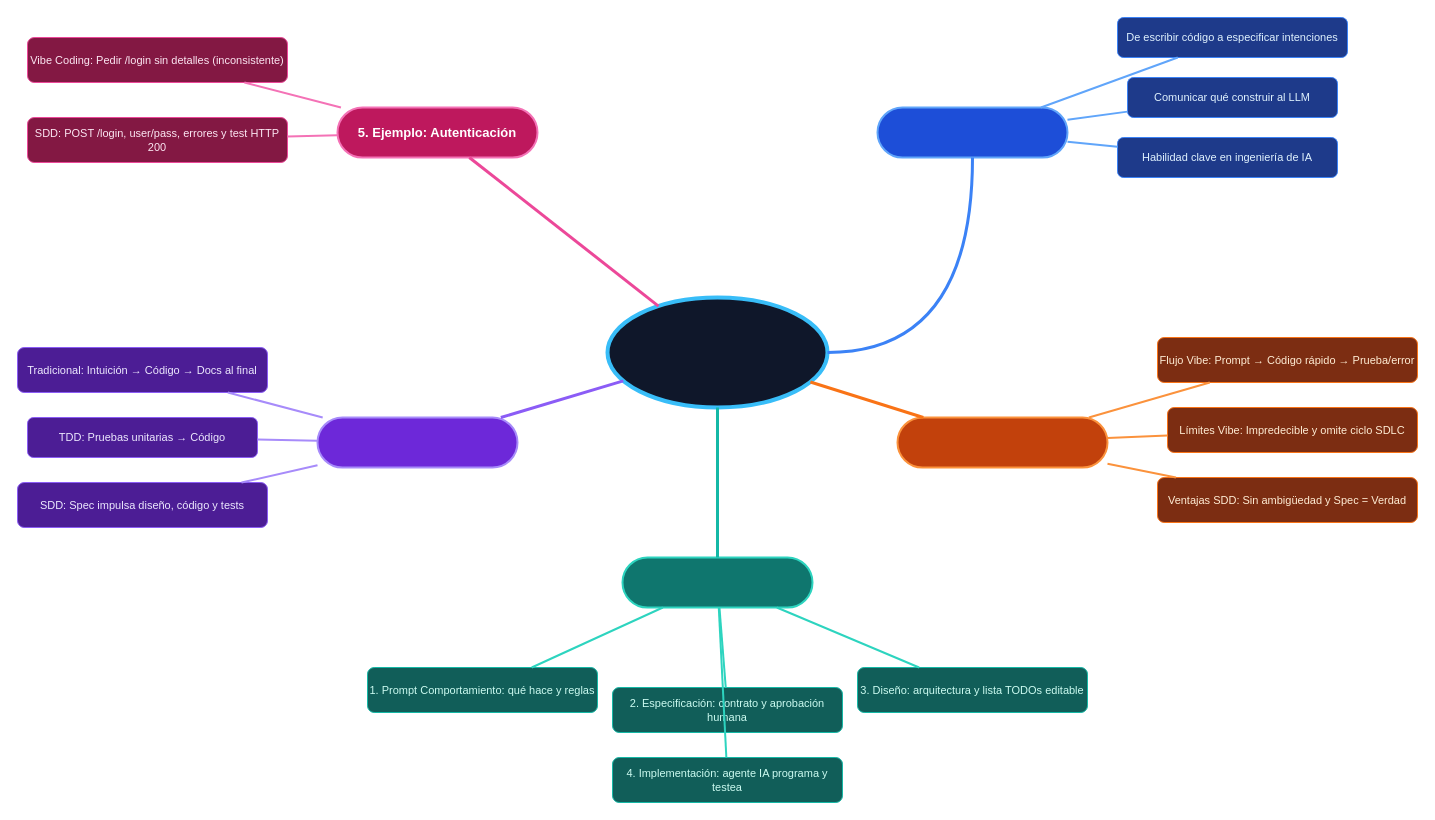
This 1435x820 diagram has some shape labels left out. Here are the shapes that lost their labels. From the top down, the box of each, then its label:
(876, 106, 1068, 158): 1. Cambio de Paradigma
(605, 295, 829, 409): SPEC-DRIVEN DEVELOPMENT (SDD)
(316, 416, 518, 468): 4. Evolución Metodológica
(896, 416, 1108, 468): 2. Comparativa vs Vibe Coding
(621, 556, 813, 608): 3. Proceso y Flujo SDD
